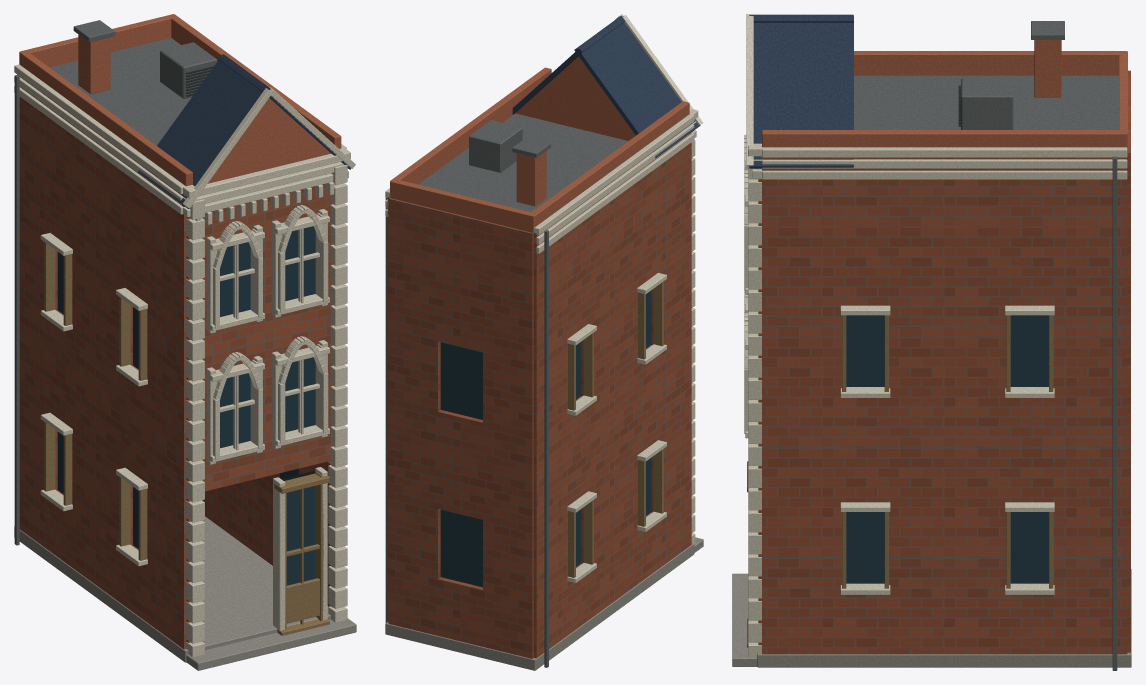
File: VICT34_lod1.glb
3 views of the same model, side by side, from view 1: azimuth 30°, elevation 25°; view 2: azimuth 150°, elevation 25°; view 3: azimuth 270°, elevation 25° (orthographic). The views are drawn at different scales.
Visible parts, largest first — view 1: VICT34_LOD1; view 2: VICT34_LOD1; view 3: VICT34_LOD1.
Boxes of the visible parts, x1,y1,x2,y2 form: VICT34_LOD1: [14, 14, 356, 670]; VICT34_LOD1: [385, 14, 703, 670]; VICT34_LOD1: [732, 14, 1131, 670].
Bounding box in the file's own units: 3.71 × 11.05 × 6.57.
10 materials, 8 textured.
